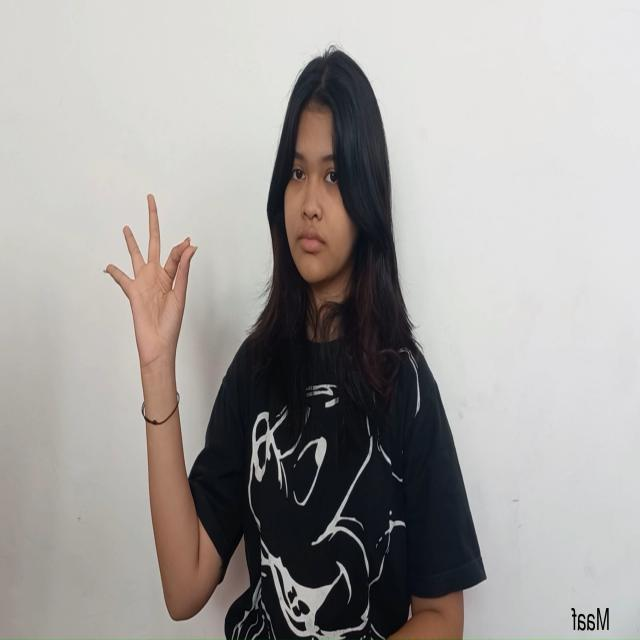Maaf -BISINDO-: (102, 190, 200, 391)
